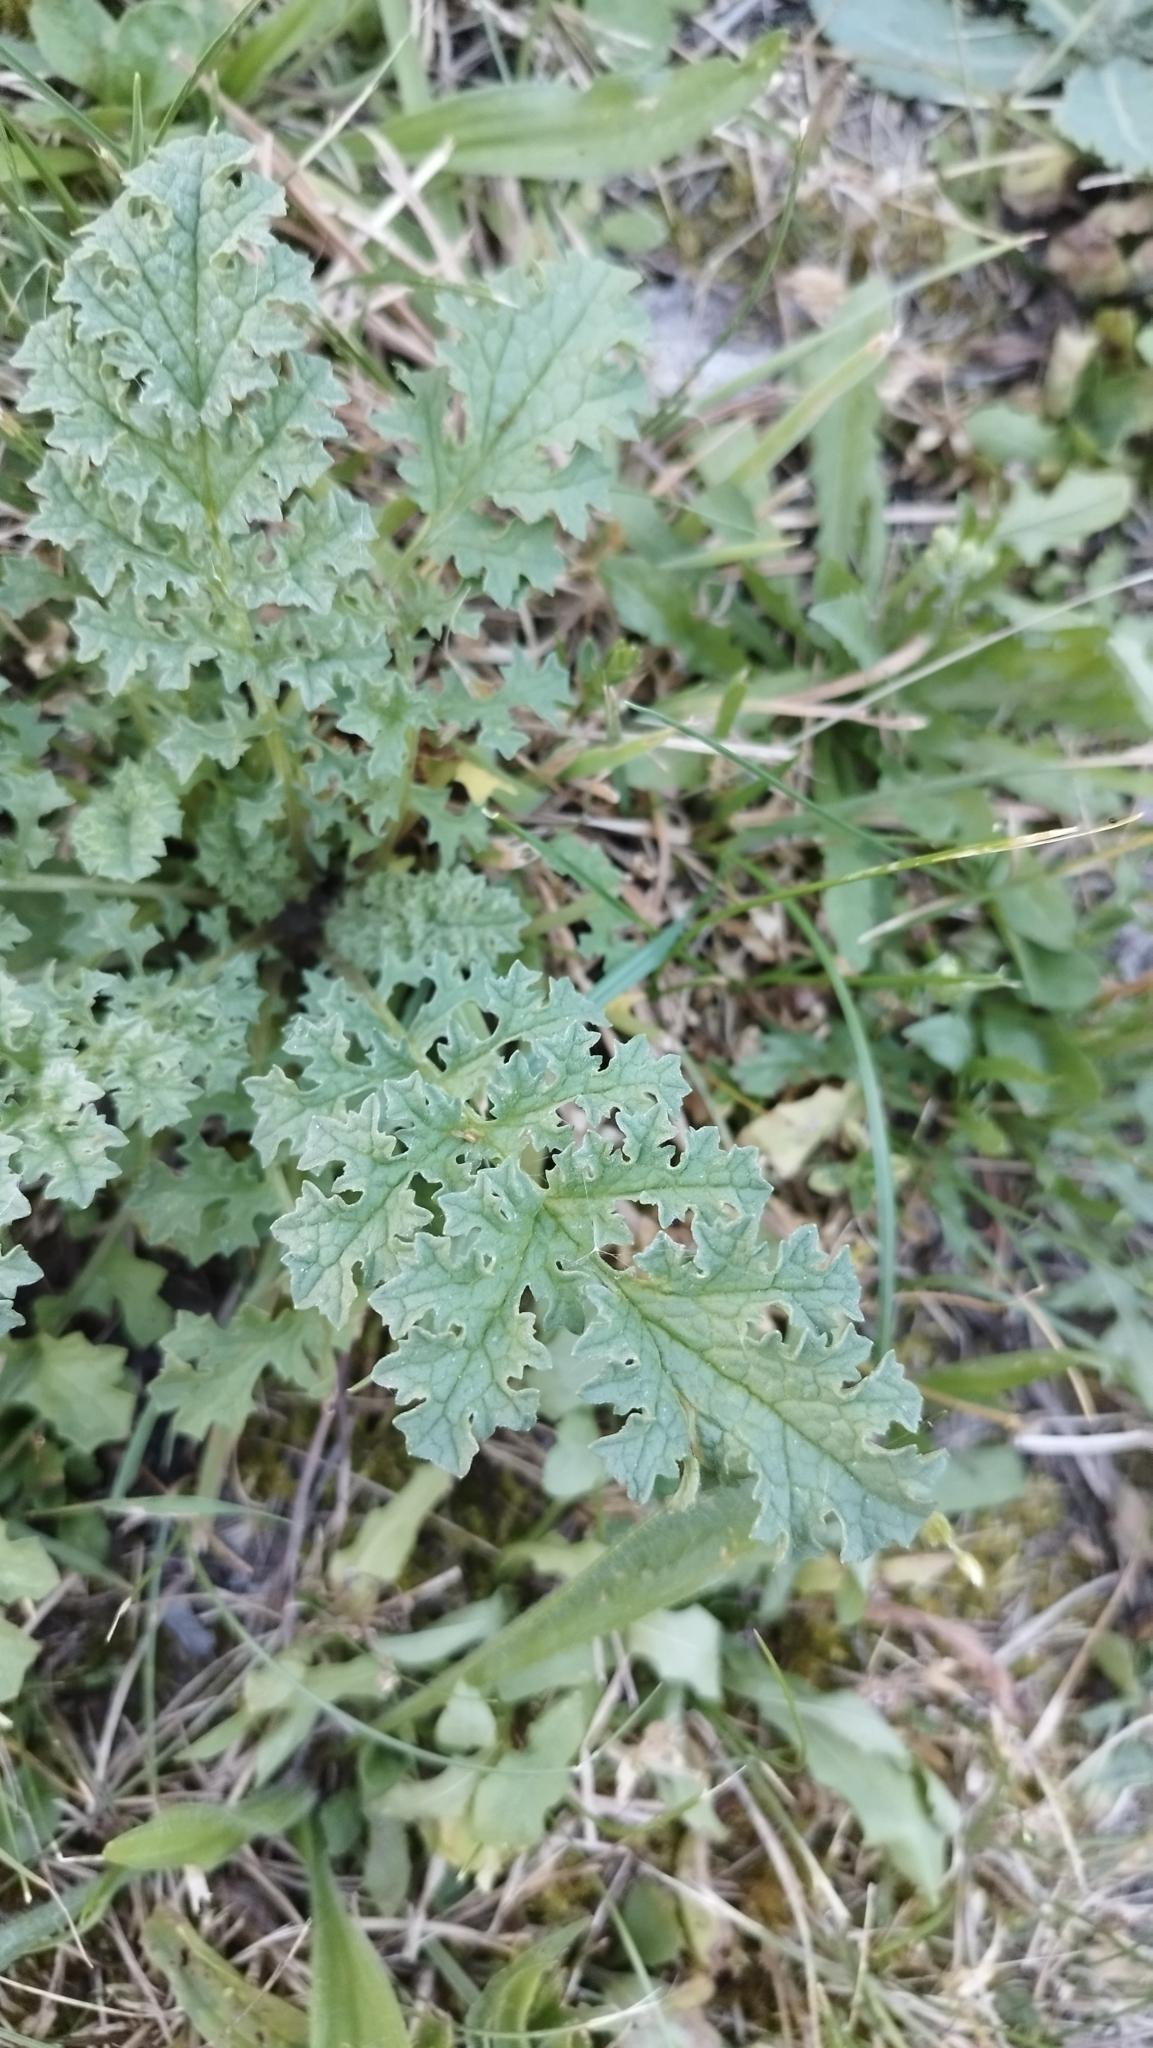Jacobaea vulgaris: (0, 117, 966, 1689)
